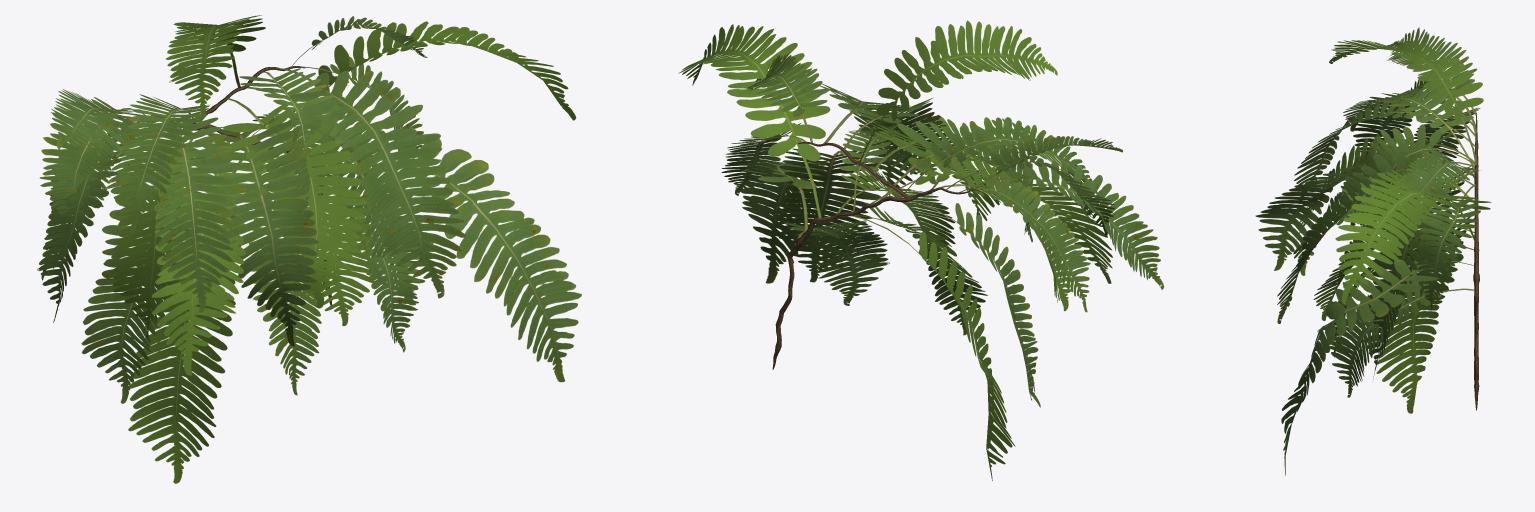
The model's file is fern.glb.
3 renders of one model, left to right at view 1: azimuth 30°, elevation 25°; view 2: azimuth 150°, elevation 25°; view 3: azimuth 270°, elevation 25°, orthographic. The views are drawn at different scales.
Visible parts, largest first — view 1: fern; view 2: fern; view 3: fern.
Part boxes in pixels (bbox=[...]): fern: bbox=[37, 15, 581, 483]; fern: bbox=[678, 20, 1164, 480]; fern: bbox=[1255, 27, 1491, 475].
Size of the model in its own units: 1 by 0.8148 by 0.5669.
3 materials, 3 textured.
